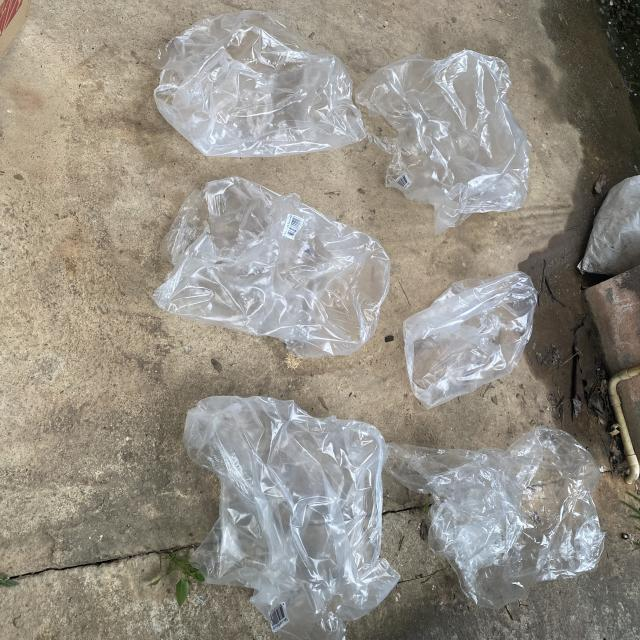Single-layer Plastic: (184, 396, 399, 640), (154, 178, 390, 359), (386, 426, 605, 609), (355, 50, 531, 235), (154, 10, 366, 158), (404, 271, 536, 409)
